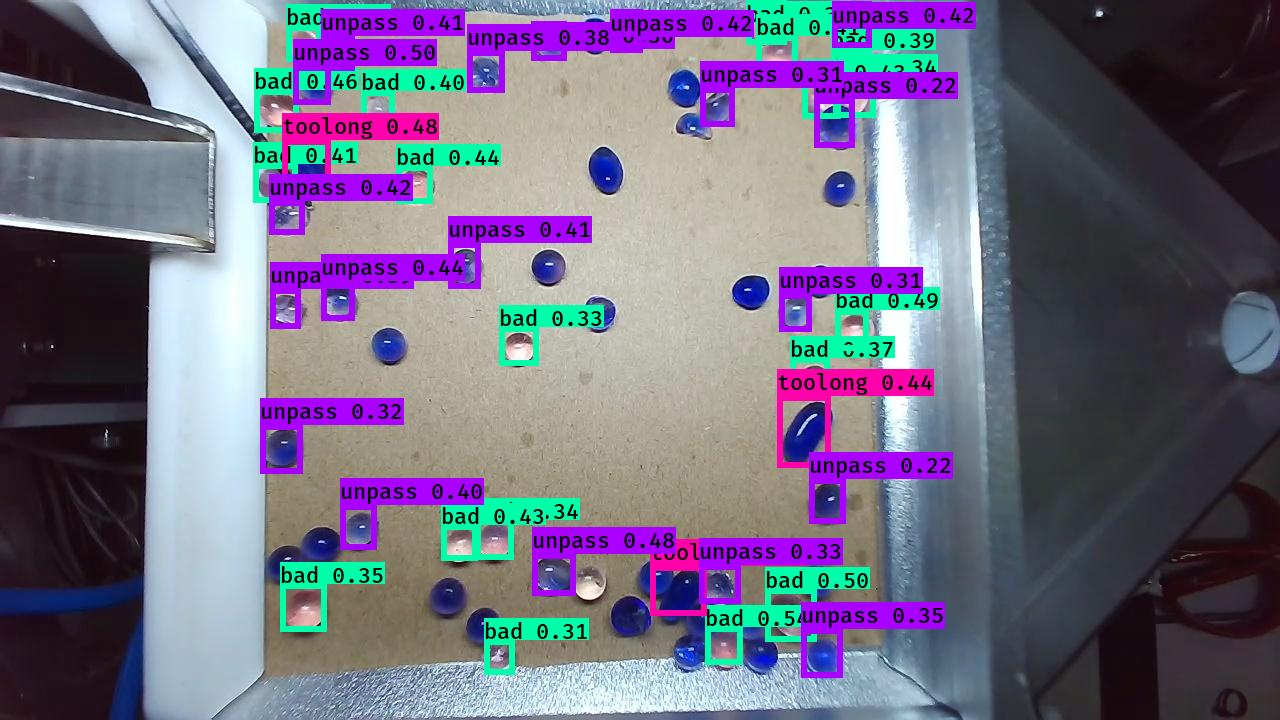bad: (769, 594, 816, 641), (254, 88, 302, 133), (282, 586, 327, 634), (756, 36, 801, 83), (745, 3, 786, 47), (258, 164, 301, 205), (705, 630, 746, 671), (477, 636, 518, 677), (285, 27, 325, 66), (397, 166, 436, 206), (475, 521, 513, 562), (832, 52, 873, 89), (501, 328, 537, 370), (837, 312, 876, 350), (358, 91, 397, 129), (569, 564, 606, 604), (440, 527, 479, 564), (838, 79, 875, 116), (797, 363, 833, 400), (803, 80, 836, 118)
defact: (671, 109, 717, 145)
pass: (587, 143, 625, 198), (608, 593, 650, 640), (460, 604, 503, 648), (530, 250, 573, 292), (259, 542, 301, 585), (304, 529, 344, 572), (370, 324, 409, 368), (732, 270, 772, 312), (426, 576, 468, 616), (665, 67, 704, 110), (580, 291, 619, 333), (744, 630, 782, 672), (634, 560, 672, 601), (684, 600, 723, 639), (817, 159, 854, 199), (670, 635, 706, 672), (578, 16, 612, 54)
toolong: (778, 397, 834, 469), (287, 139, 331, 201), (658, 566, 701, 624)
unpass: (528, 551, 576, 596), (832, 1, 875, 51), (807, 478, 849, 528), (339, 510, 383, 553), (261, 426, 303, 471), (803, 634, 845, 678), (816, 106, 856, 152), (269, 291, 313, 332), (608, 9, 646, 55), (293, 66, 336, 105), (697, 563, 736, 604), (318, 282, 357, 321), (468, 55, 506, 95), (447, 247, 484, 288), (318, 33, 355, 71), (272, 202, 311, 238), (703, 89, 736, 131), (536, 25, 571, 64), (777, 292, 813, 329), (729, 606, 763, 642), (797, 564, 831, 598)
